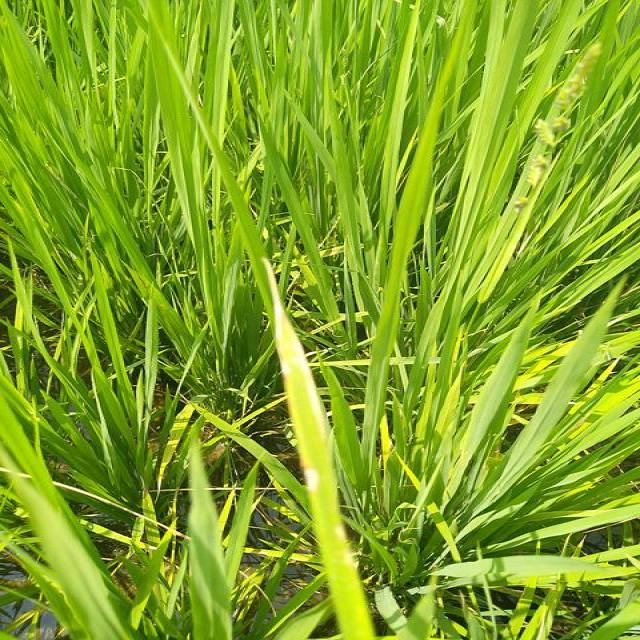Leaf Blight: (259, 259, 331, 494)
